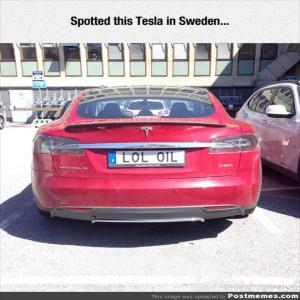Vehicle-registration-plate: (109, 151, 188, 169)
